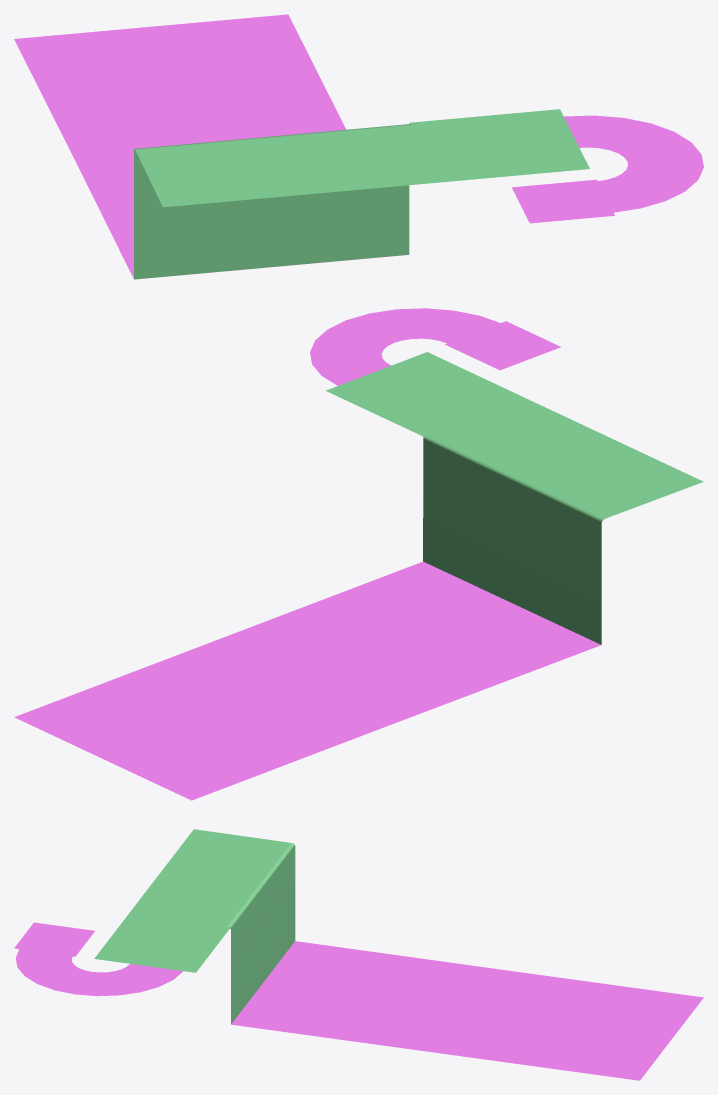
Rendered from Close_Lower_Floor_experimental.fbx.
3 renders of one model, top to bottom at view 1: azimuth 30°, elevation 25°; view 2: azimuth 150°, elevation 25°; view 3: azimuth 270°, elevation 25°, orthographic. The views are drawn at different scales.
Visible parts, largest first — view 1: Close_Lower_Floor_low.001; view 2: Close_Lower_Floor_low.001; view 3: Close_Lower_Floor_low.001.
Part boxes in pixels (x1=…): Close_Lower_Floor_low.001: x1=14, y1=14, x2=703, y2=279; Close_Lower_Floor_low.001: x1=14, y1=308, x2=703, y2=800; Close_Lower_Floor_low.001: x1=14, y1=829, x2=703, y2=1080.
Size of the model in its own units: 1837 by 500 by 3206.
